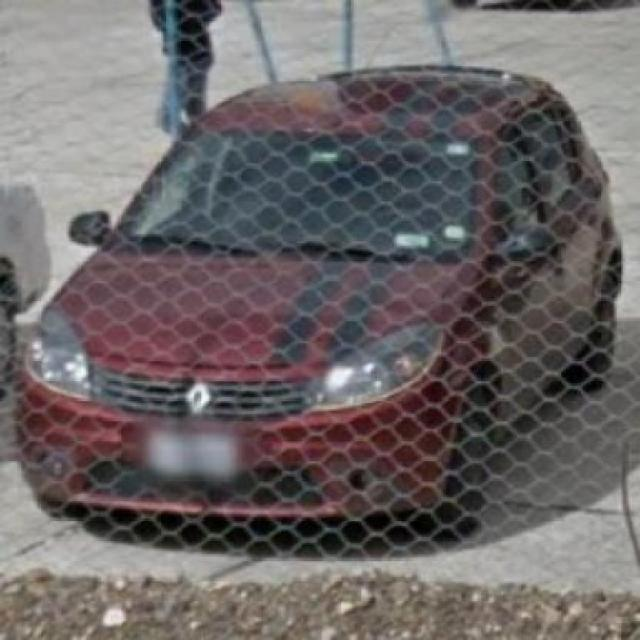car: (6, 53, 620, 541)
